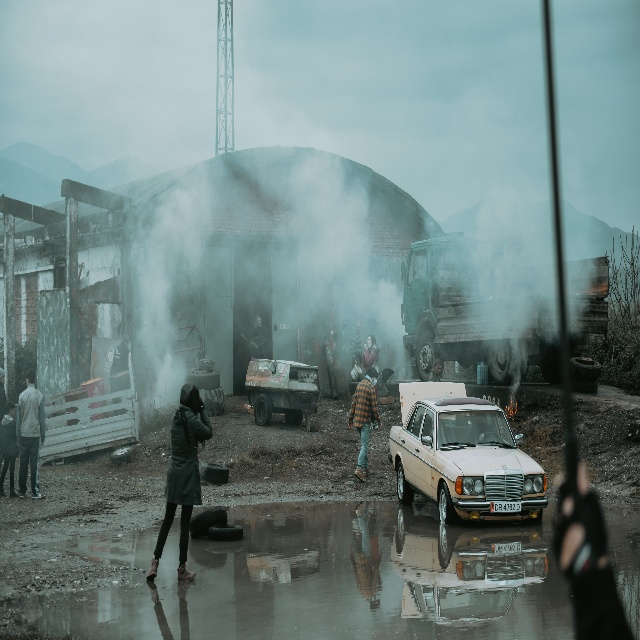Guantes: (546, 463, 614, 577), (199, 396, 205, 412)
Sin_guantes: (347, 422, 353, 430), (16, 440, 21, 448), (363, 343, 368, 351), (41, 439, 45, 446), (255, 343, 259, 350), (380, 422, 383, 431)
